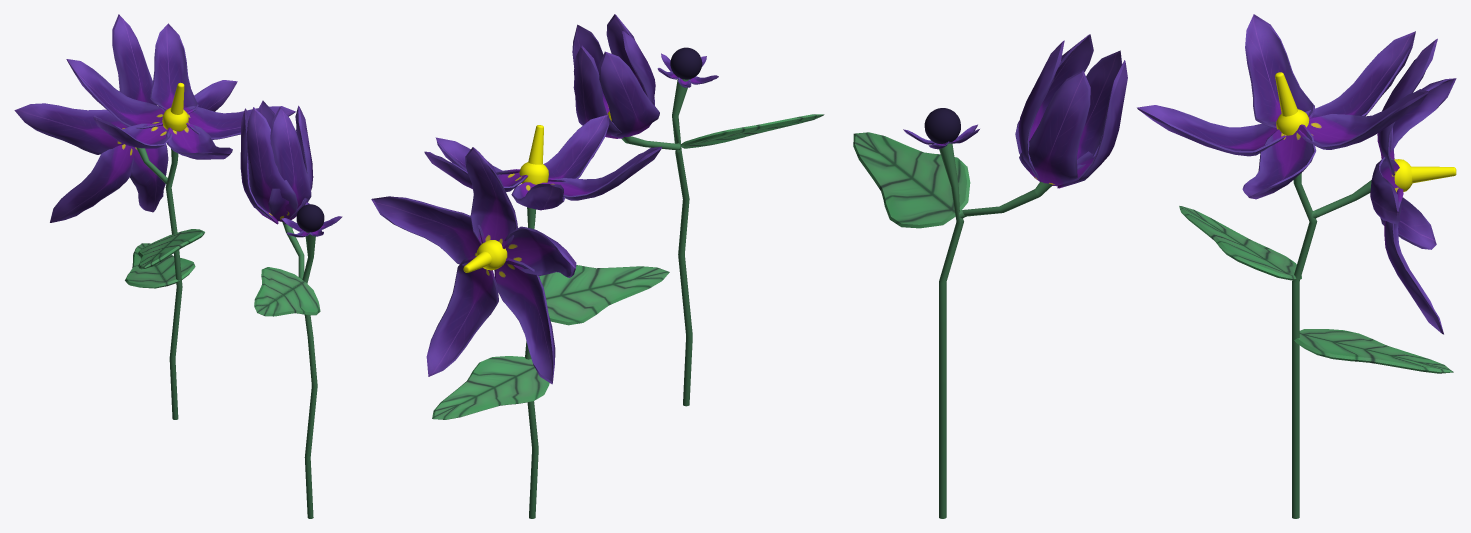
Rendered from Nightshade.fbx.
The picture shows the model from 3 angles, left to right: view 1: azimuth 30°, elevation 25°; view 2: azimuth 150°, elevation 25°; view 3: azimuth 270°, elevation 25°; orthographic projection. The views are drawn at different scales.
Parts seen in each view (by area): view 1: Nightshade1, Nightshade2; view 2: Nightshade1, Nightshade2; view 3: Nightshade1, Nightshade2.
Part boxes in pixels (<box>): Nightshade1: <box>14,14,295,419</box>; Nightshade2: <box>240,100,342,518</box>; Nightshade1: <box>371,114,669,518</box>; Nightshade2: <box>572,14,824,406</box>; Nightshade1: <box>1137,14,1456,518</box>; Nightshade2: <box>853,34,1127,518</box>.
Bounding box in the file's own units: 55.7 × 98.18 × 110.
